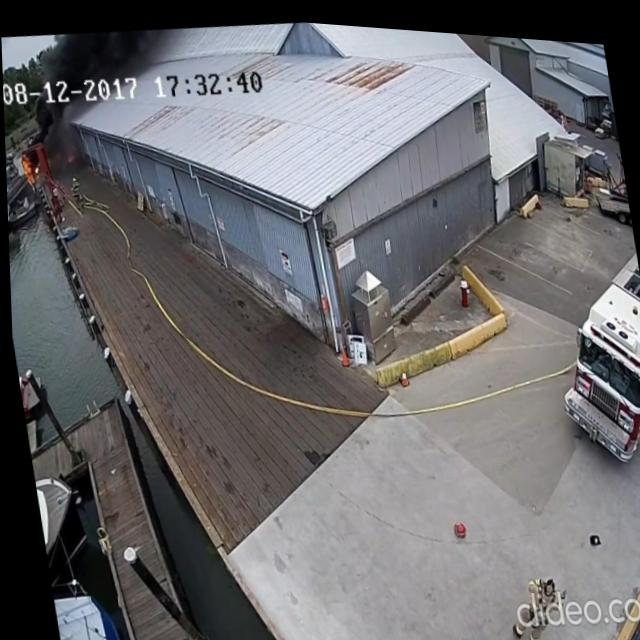fire: (15, 150, 43, 192)
